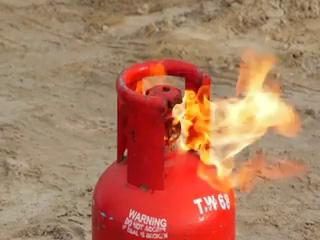Fire: (132, 34, 282, 183)
